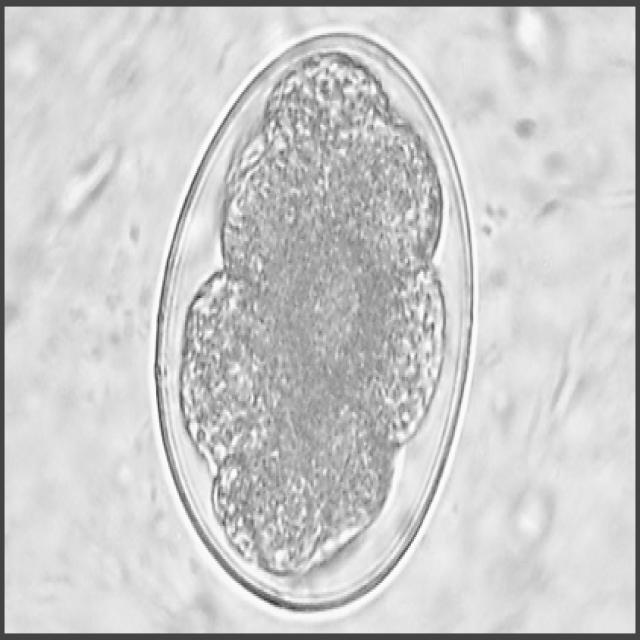Ancylostoma Spp: (142, 24, 490, 627)
